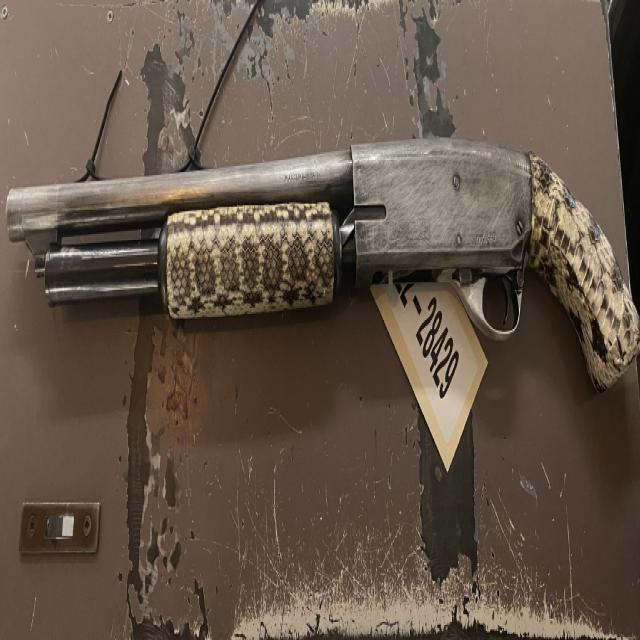shotgun: (6, 138, 640, 392)
